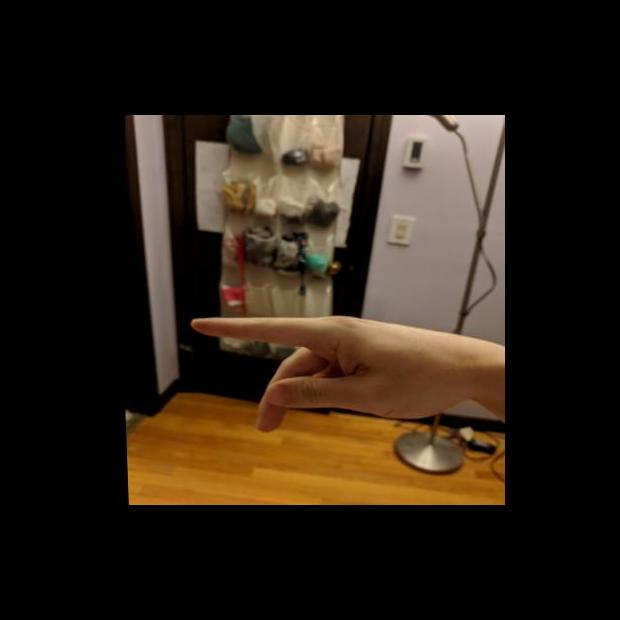O: (177, 301, 479, 448)
